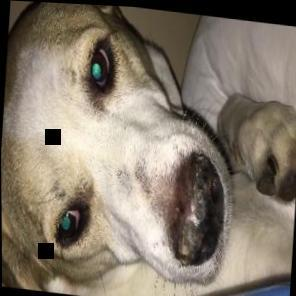keratosis: (163, 149, 225, 270)
